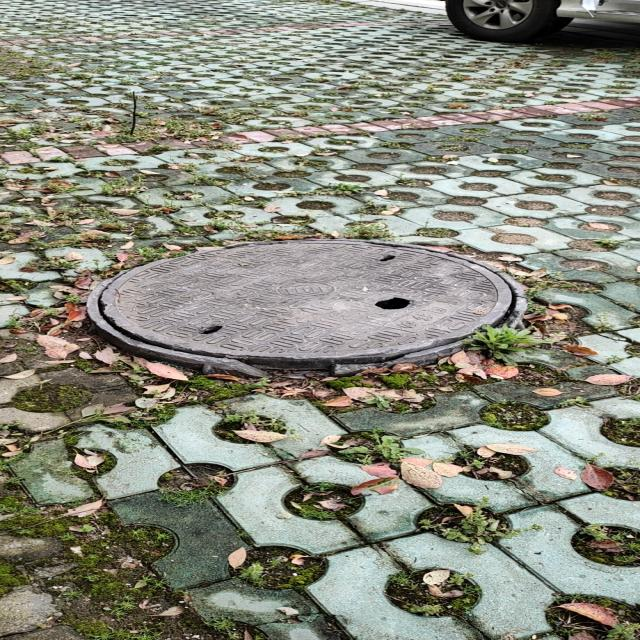Broken: (85, 236, 532, 378)
